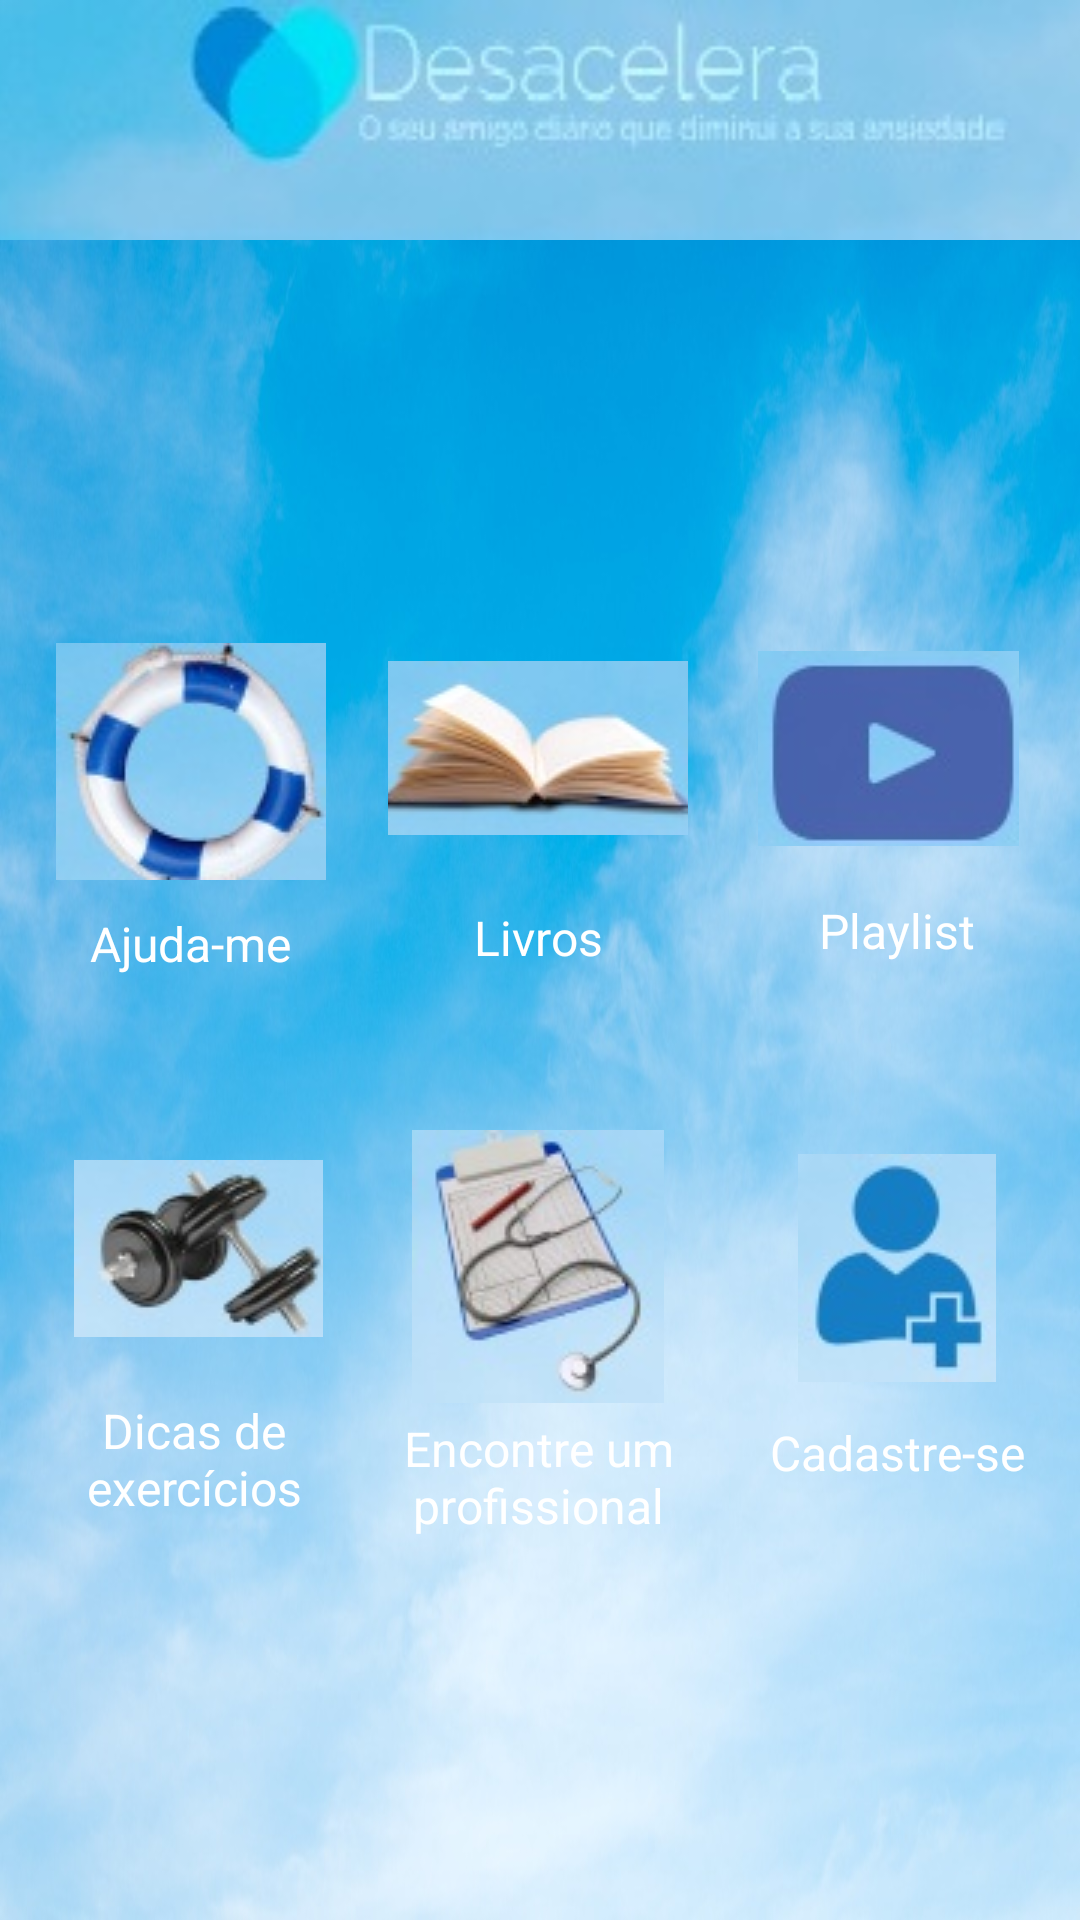

Named icons in this screenshot (1080×1920) and their centers, (x,y):
boia: (191,761)
